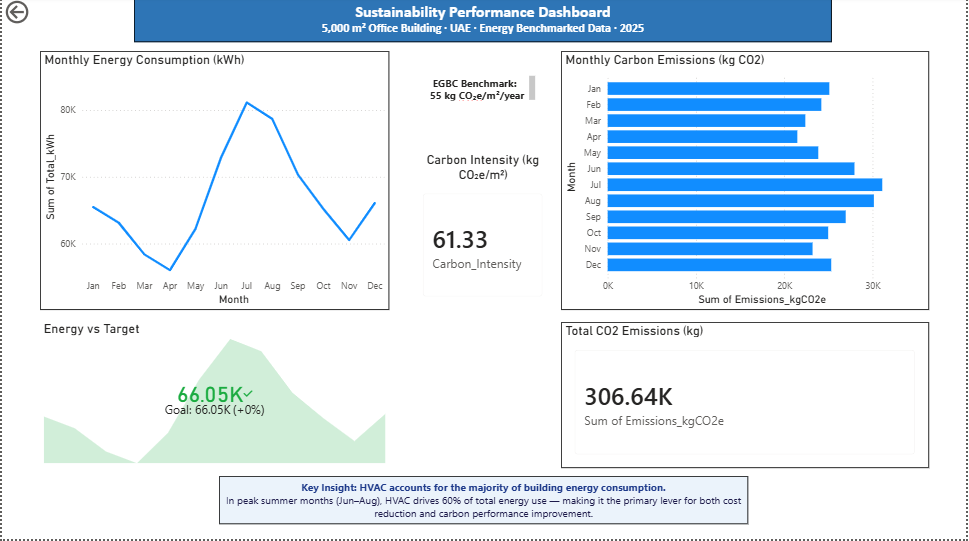

This screenshot's page, from the dashboard's own definition file:
{"tool":"powerbi","page":{"name":"Sustainability Performance Dashboard","canvas":[1280,720],"ordinal":0},"visuals":[{"type":"actionButton","box":[0,0,100,40],"z":0},{"type":"lineChart","title":"Monthly Energy Consumption (kWh)","fields":{"Category":["energy_data.Month"],"Y":["Sum(energy_data.Total_kWh)"]},"box":[50.5,71.7,576.5,322.8],"z":1000},{"type":"clusteredBarChart","title":"Monthly Carbon Emissions (kg CO2)","fields":{"Category":["energy_data.Month"],"Y":["Sum(energy_data.Emissions_kgCO2e)"]},"box":[660.2,71.7,571.2,322.8],"z":2000},{"type":"textbox","box":[288.6,635.7,702.9,64.3],"z":4000},{"type":"textbox","box":[175.7,0,927.1,60],"z":5000},{"type":"kpi","title":"Energy vs Target","fields":{"Goal":["Avg(energy_data.Total_kWh)"],"Indicator":["Avg(energy_data.Total_kWh)"],"TrendLine":["energy_data.Month"]},"box":[338.7,406.5,607.1,207.2],"z":6000}]}

Visuals, with their boxes in screenshot pixels (x1, y1, x2, y2), scaled from the page's 1280x720 canvas onto the 969x541 screenshot:
actionButton: box(0, 0, 76, 30)
"Monthly Energy Consumption (kWh)" lineChart: box(38, 54, 475, 296)
"Monthly Carbon Emissions (kg CO2)" clusteredBarChart: box(500, 54, 932, 296)
textbox: box(218, 478, 751, 526)
textbox: box(133, 0, 835, 45)
"Energy vs Target" kpi: box(256, 305, 716, 461)
